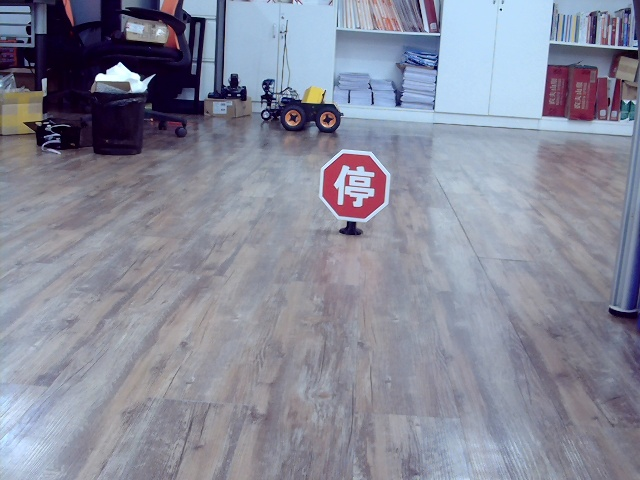stop: (334, 163, 375, 208)
